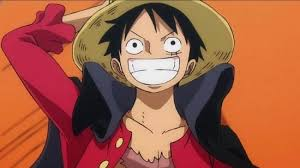luffy: (72, 1, 237, 106)
